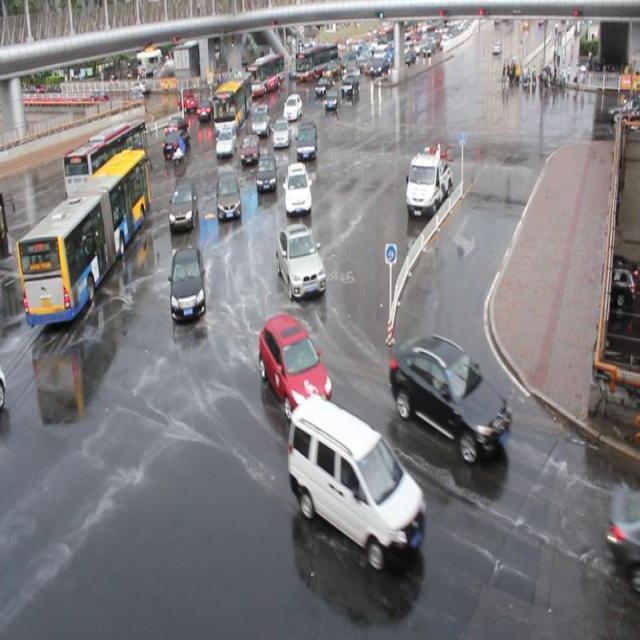BigCar: (21, 152, 152, 324), (249, 52, 288, 90), (214, 82, 245, 128), (295, 46, 336, 71)
car: (289, 394, 438, 589), (389, 334, 516, 485), (258, 304, 338, 414), (164, 240, 212, 327), (274, 225, 326, 304), (403, 139, 455, 218), (214, 165, 245, 233), (283, 165, 318, 220), (169, 180, 202, 234), (256, 148, 282, 202), (161, 132, 192, 164), (298, 120, 320, 163), (214, 126, 237, 164), (270, 116, 291, 152), (341, 73, 364, 105), (283, 92, 303, 124), (251, 105, 270, 137), (240, 131, 258, 162), (324, 87, 342, 117), (180, 87, 198, 116), (198, 95, 214, 126), (372, 53, 386, 82), (315, 71, 331, 94), (491, 36, 504, 56)
